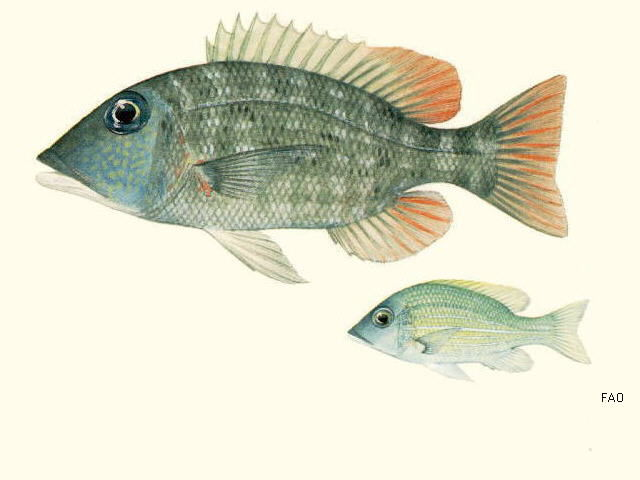fish: (33, 12, 570, 285), (345, 279, 594, 383)
